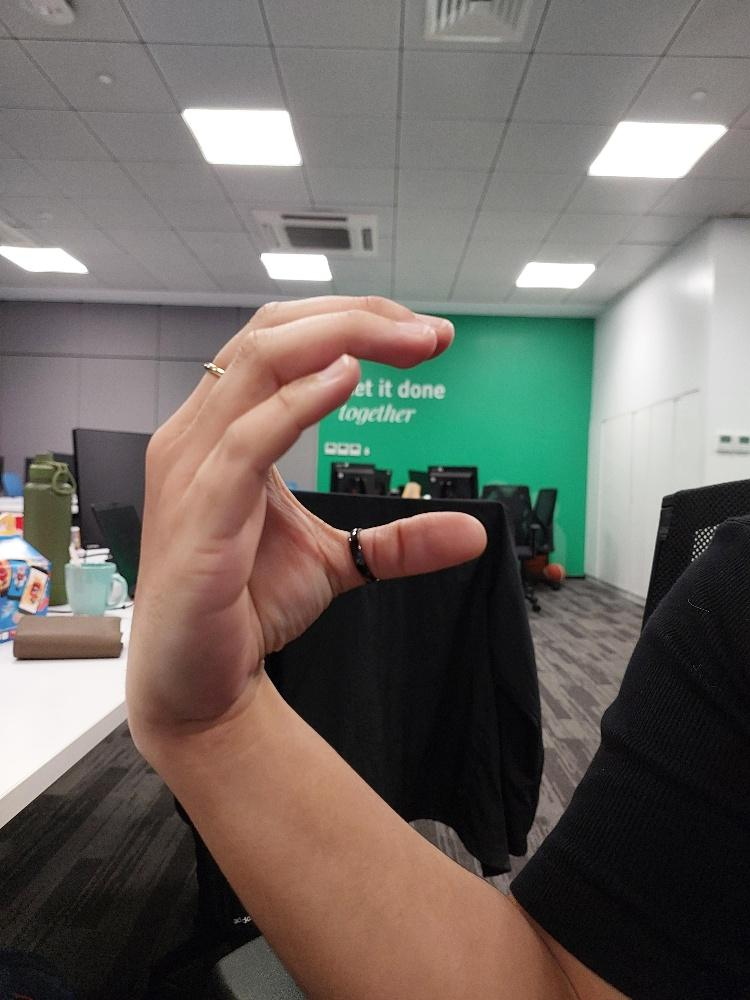c: (119, 293, 490, 736)
